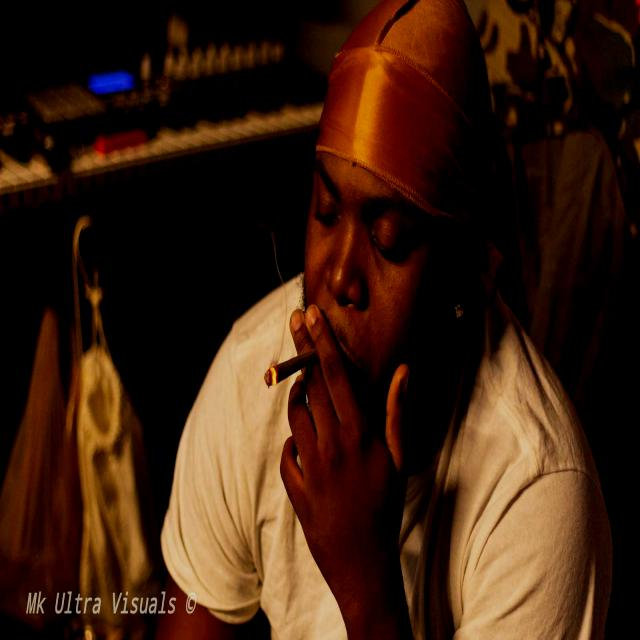Smooking: (255, 348, 328, 400)
